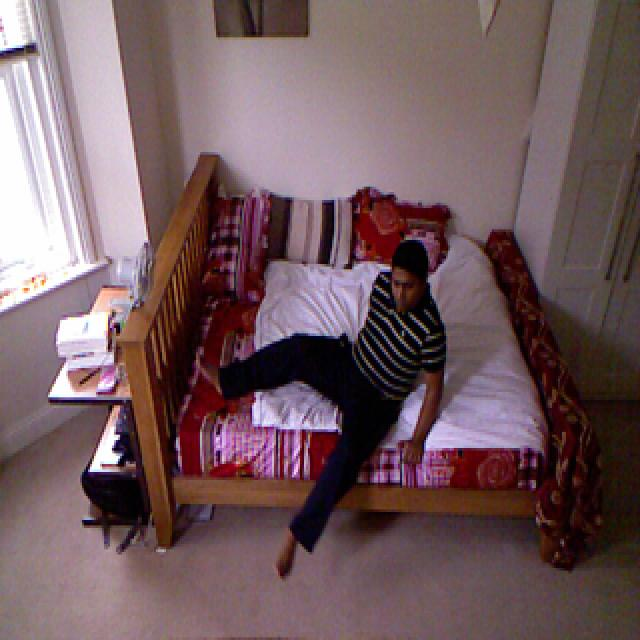sitting: (195, 242, 447, 585)
